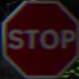Stop: (5, 0, 75, 73)
